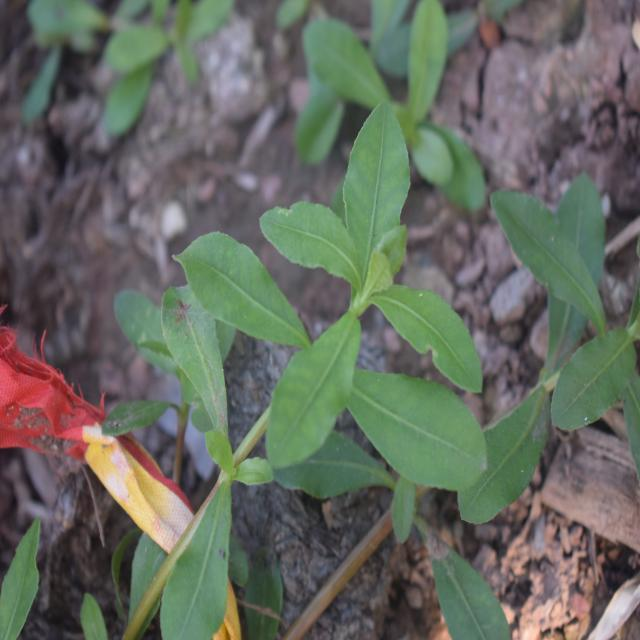Alligatorweed: (143, 134, 501, 514)
